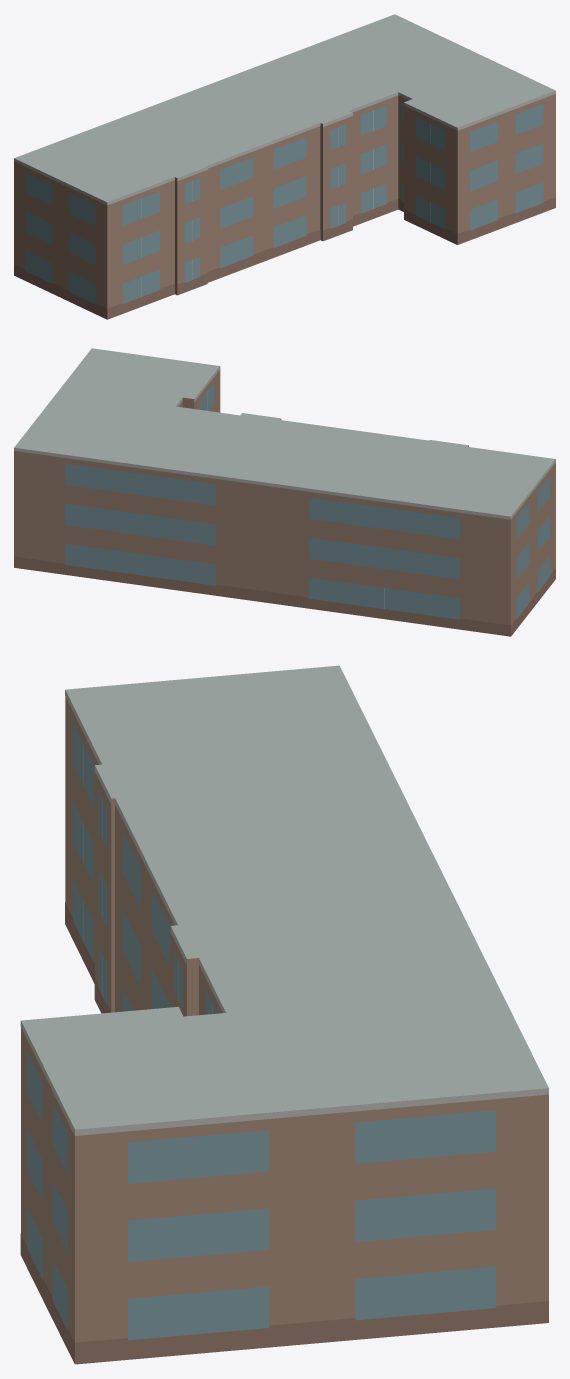
Rendered from survey-upis-32698530.glb.
3 views of the same model, one above another, from view 1: azimuth 30°, elevation 25°; view 2: azimuth 150°, elevation 25°; view 3: azimuth 270°, elevation 25° (orthographic). The views are drawn at different scales.
Visible parts, largest first — view 1: survey-upis-32698530.tmp; view 2: survey-upis-32698530.tmp; view 3: survey-upis-32698530.tmp.
Boxes of the visible parts, left/top/right/bottom form: survey-upis-32698530.tmp: left=14, top=14, right=555, bottom=319; survey-upis-32698530.tmp: left=14, top=348, right=555, bottom=636; survey-upis-32698530.tmp: left=20, top=665, right=548, bottom=1364.
Size of the model in its own units: 38.84 by 9.15 by 18.68.
